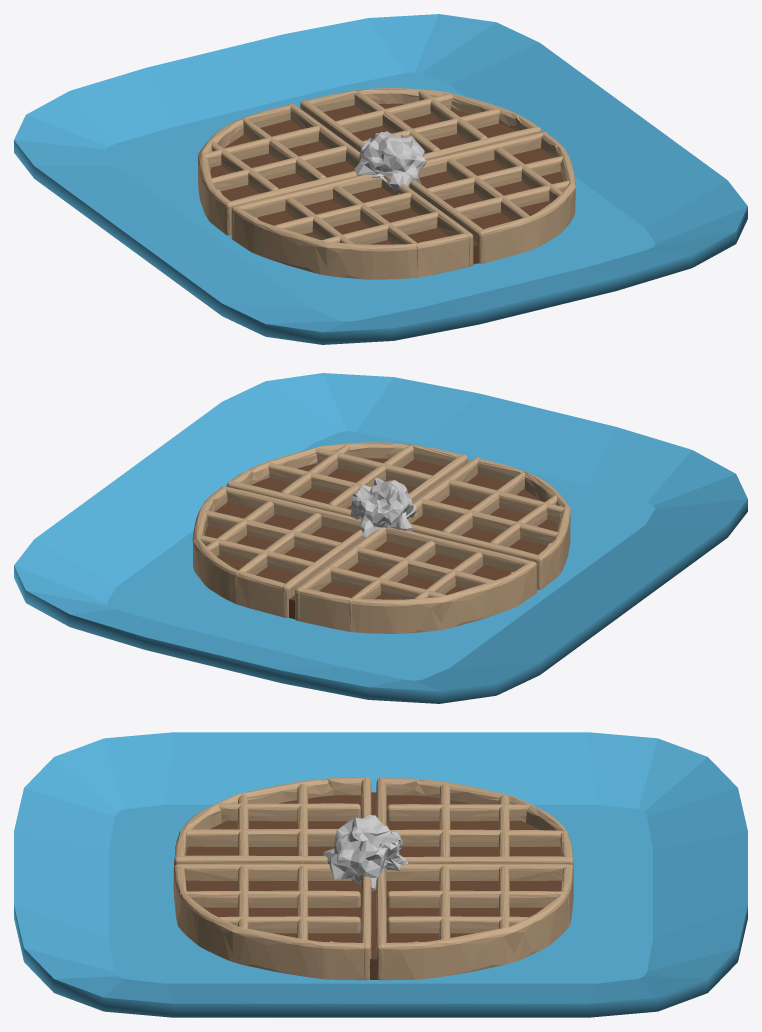
File: ab9dacac-d4bd-41f2-a136-2b8d11b5b269.glb
3 renders of one model, top to bottom at view 1: azimuth 30°, elevation 25°; view 2: azimuth 150°, elevation 25°; view 3: azimuth 270°, elevation 25°, orthographic. The views are drawn at different scales.
Visible parts, largest first — view 1: Box20180, Cylinder008, Cylinder010, Cylinder012, Cylinder009, Cylinder011, Sphere002; view 2: Box20180, Cylinder012, Cylinder011, Cylinder008, Cylinder009, Cylinder010, Sphere002; view 3: Box20180, Cylinder011, Cylinder010, Cylinder009, Cylinder012, Cylinder008, Sphere002.
Part boxes in pixels (<box>): Box20180: <box>14,14,747,344</box>; Cylinder008: <box>231,174,473,279</box>; Cylinder010: <box>409,132,575,263</box>; Cylinder012: <box>198,103,359,235</box>; Cylinder009: <box>210,103,563,264</box>; Cylinder011: <box>300,88,541,159</box>; Sphere002: <box>354,131,426,193</box>; Box20180: <box>14,373,747,703</box>; Cylinder012: <box>295,527,536,633</box>; Cylinder011: <box>192,486,364,617</box>; Cylinder008: <box>407,457,570,589</box>; Cylinder009: <box>205,458,557,619</box>; Cylinder010: <box>226,442,468,516</box>; Sphere002: <box>350,477,417,538</box>; Box20180: <box>14,732,747,1017</box>; Cylinder011: <box>376,863,573,980</box>; Cylinder010: <box>173,863,371,980</box>; Cylinder009: <box>186,792,561,979</box>; Cylinder012: <box>376,777,573,873</box>; Cylinder008: <box>173,777,371,877</box>; Sphere002: <box>323,815,408,890</box>.
Bounding box in the file's own units: 4112 × 811 × 4696.
